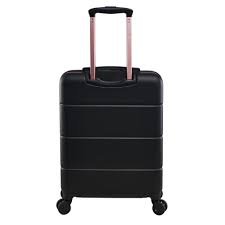suitcase: (50, 4, 168, 217)
